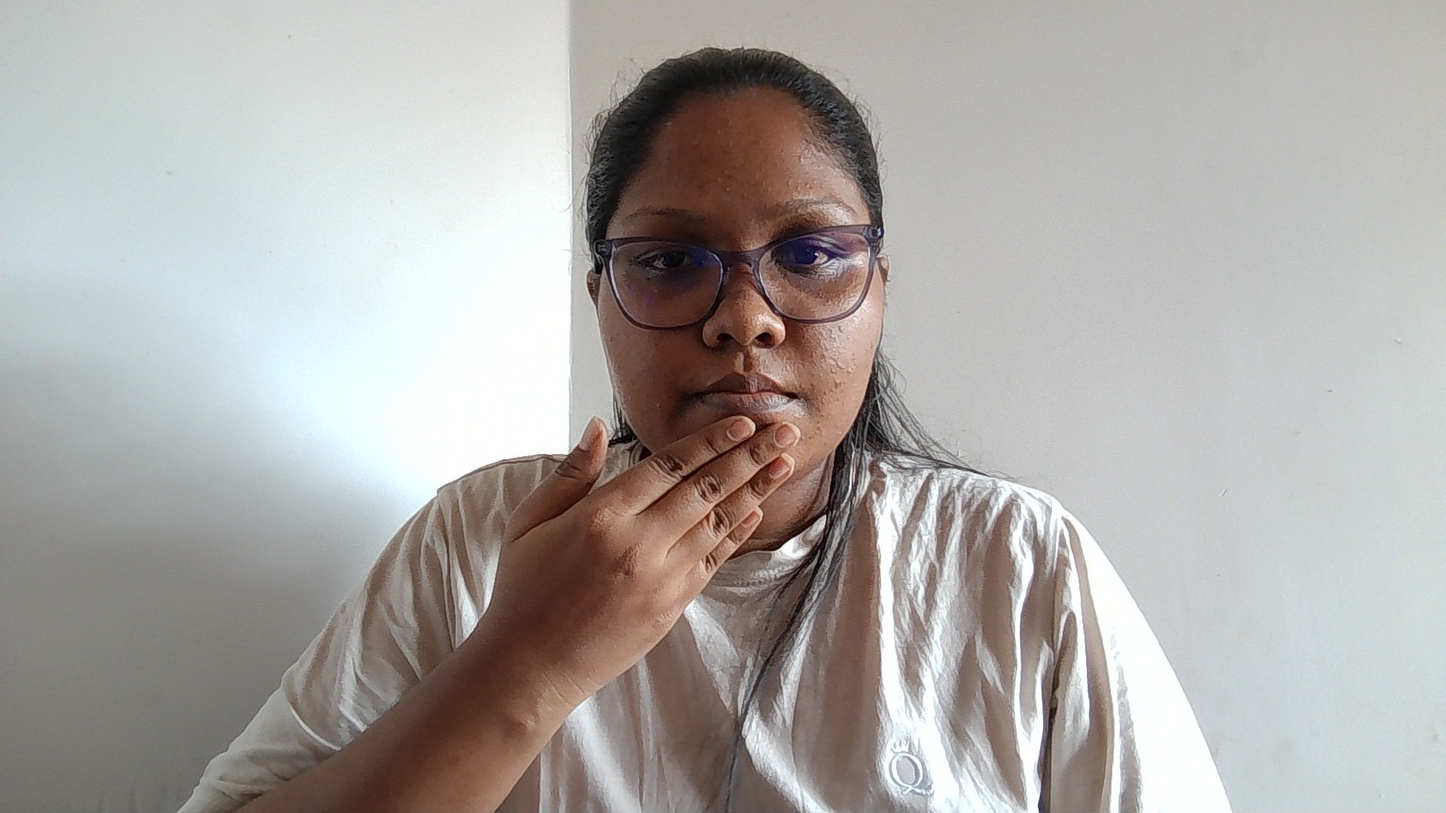Thank You: (412, 354, 870, 708)
